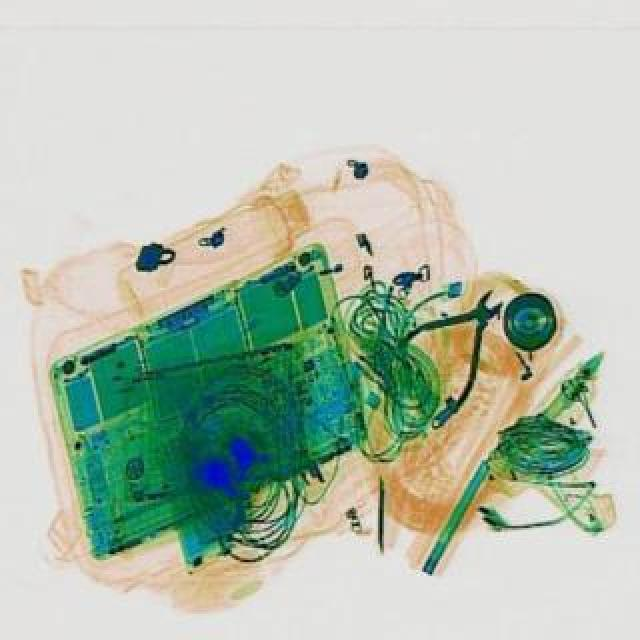wrench: (378, 266, 534, 414)
